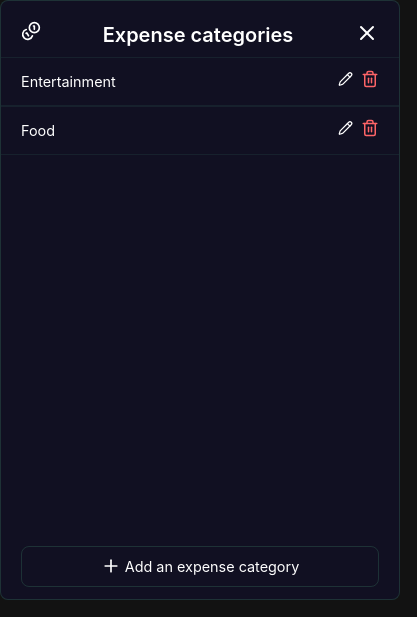
Test: Test elements inside the expense categories modal › Check if category deletion works
Check: the text "Entertainment" is shown, box [21, 70, 116, 93]
Click the icon named "Delete Entertainment".
click(370, 79)  # box [361, 70, 379, 88]
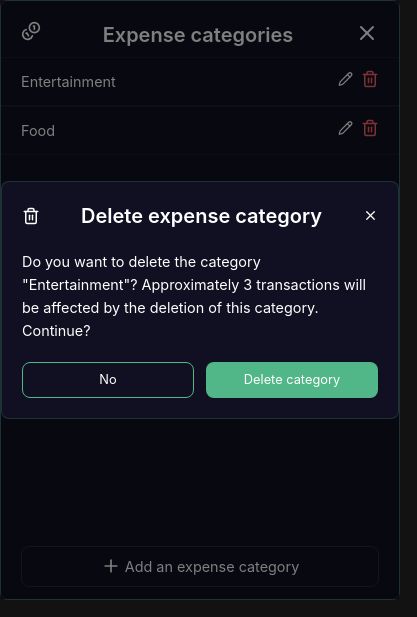
Check: the text "3 transactions will be affected" is shown, box [22, 253, 366, 339]
Click the button "Delete category".
click(292, 380)  # box [206, 362, 378, 398]
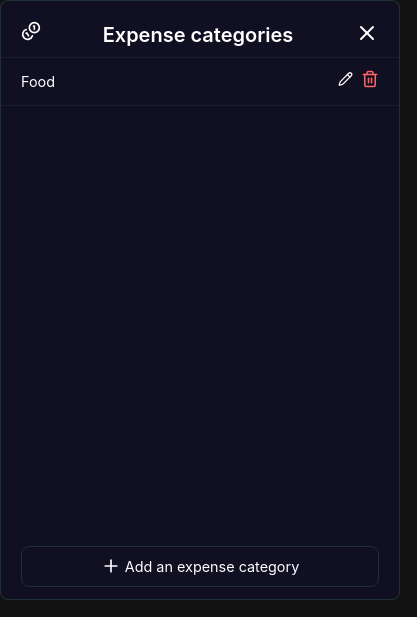
Check: the text "Entertainment" is gone
Check: the text "Food" is shown, box [21, 70, 55, 93]
